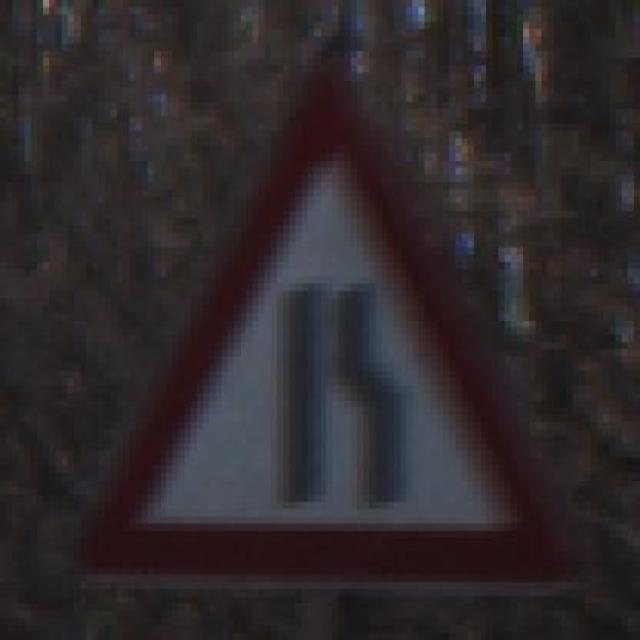-Road narrows on right: (80, 58, 572, 590)
